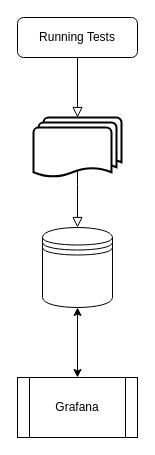
This 155x455 diagram has some shape labels left out. Here are the shapes that lost their labels. From the top down, the centre of each, then its label:
At point (77, 147): "File Report".
At point (77, 267): "Database".
